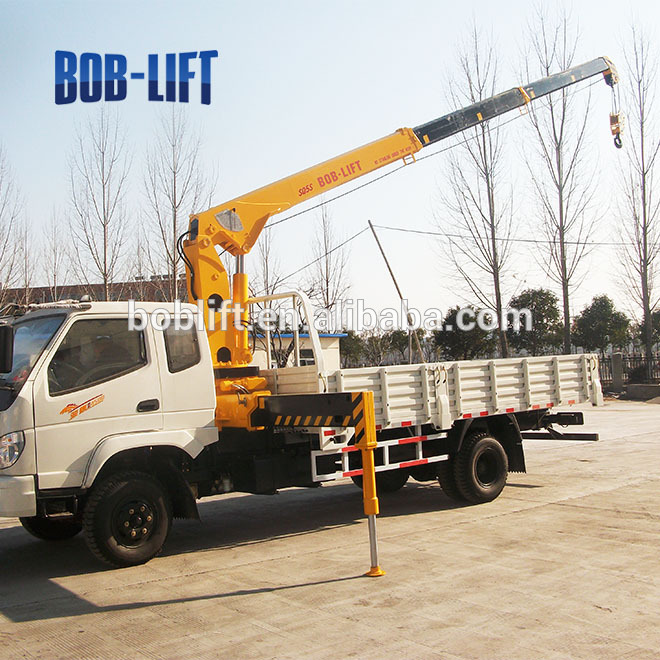crane: (160, 51, 631, 299)
truck: (3, 293, 587, 574)
